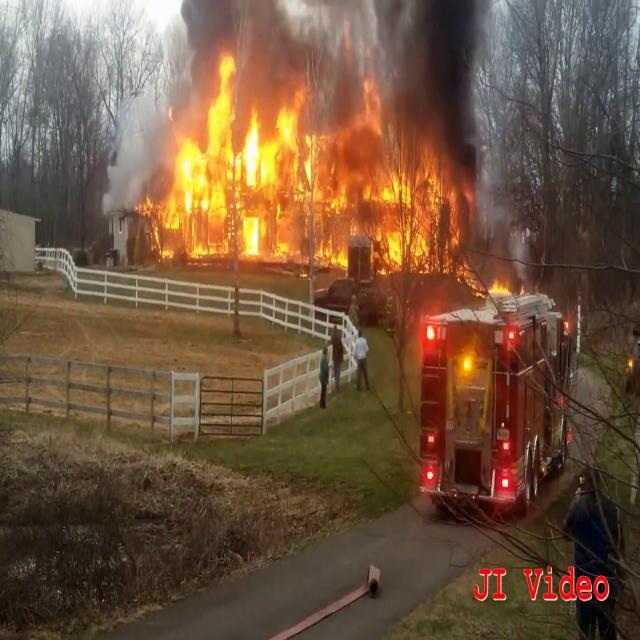Fire: (143, 50, 457, 274), (486, 274, 516, 304)
